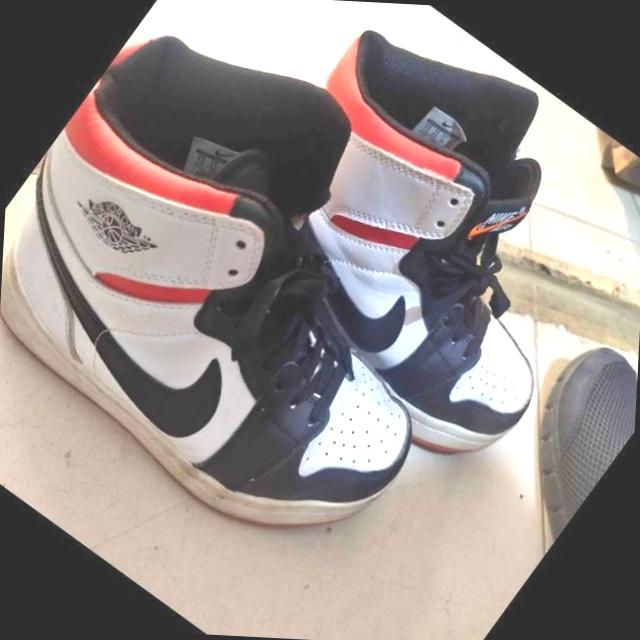nike_fake_jordan: (0, 0, 572, 600), (169, 0, 640, 496)
